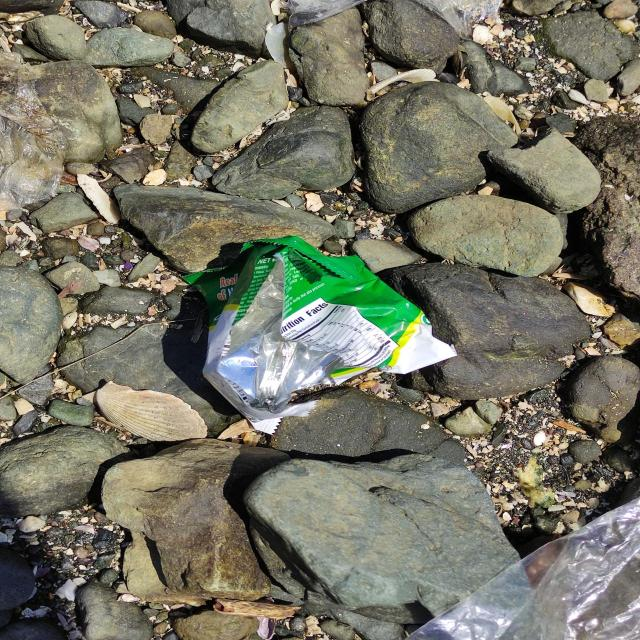plastic_waste: (184, 234, 456, 431), (394, 497, 639, 639)
